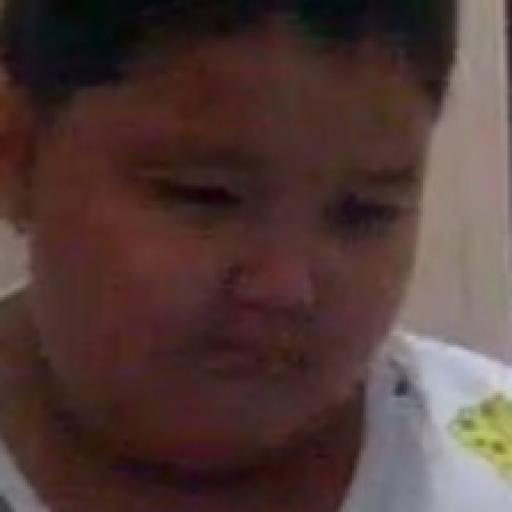Autism: (5, 0, 466, 439)
